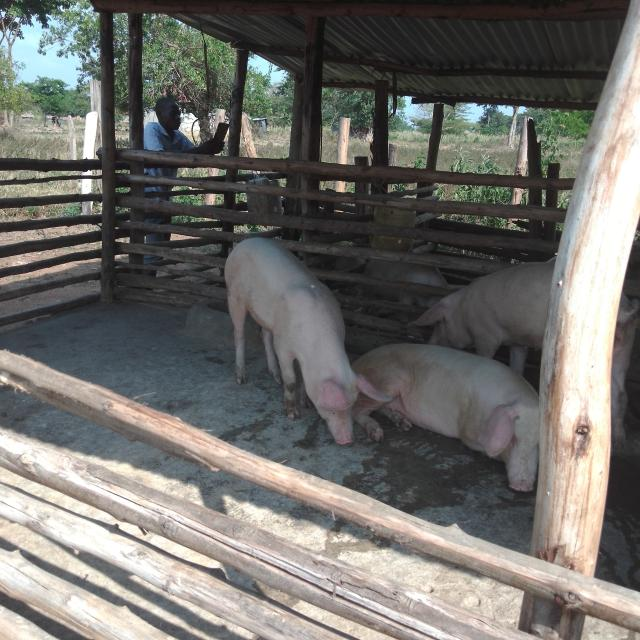pig: (201, 199, 406, 469)
